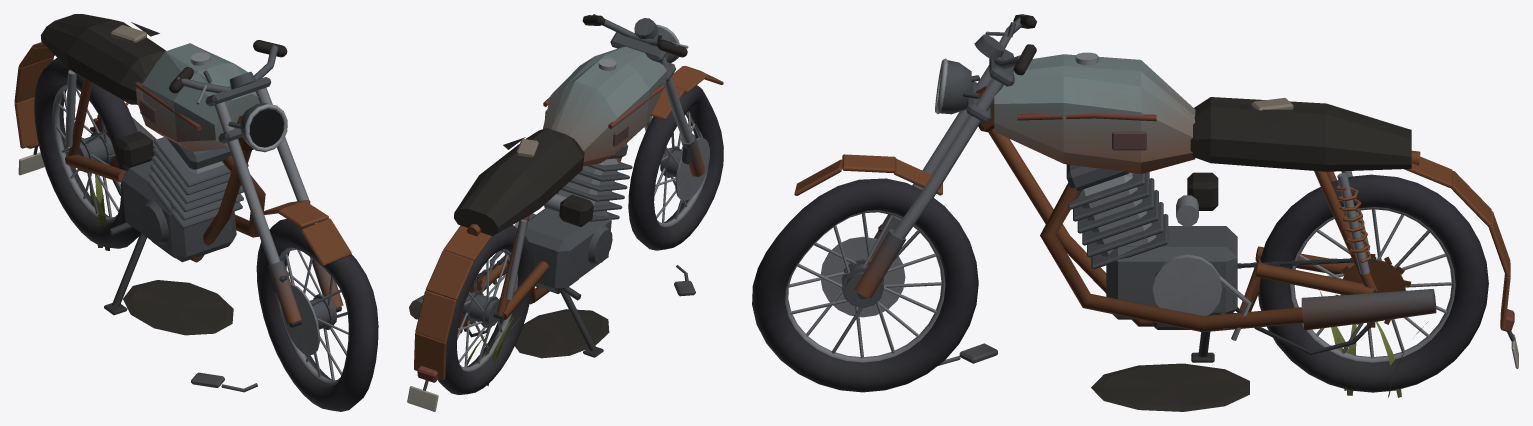
The model's file is motorcycle_wreck.glb.
3 renders of one model, left to right at view 1: azimuth 30°, elevation 25°; view 2: azimuth 150°, elevation 25°; view 3: azimuth 270°, elevation 25°, orthographic. The views are drawn at different scales.
Parts seen in each view (by area): view 1: motorcycle_wreck; view 2: motorcycle_wreck; view 3: motorcycle_wreck.
Part boxes in pixels (x1,y1,x2,y2): motorcycle_wreck: (14, 14, 378, 411); motorcycle_wreck: (407, 14, 723, 411); motorcycle_wreck: (752, 14, 1518, 411).
Bounding box in the file's own units: 0.3932 × 0.864 × 1.7.
